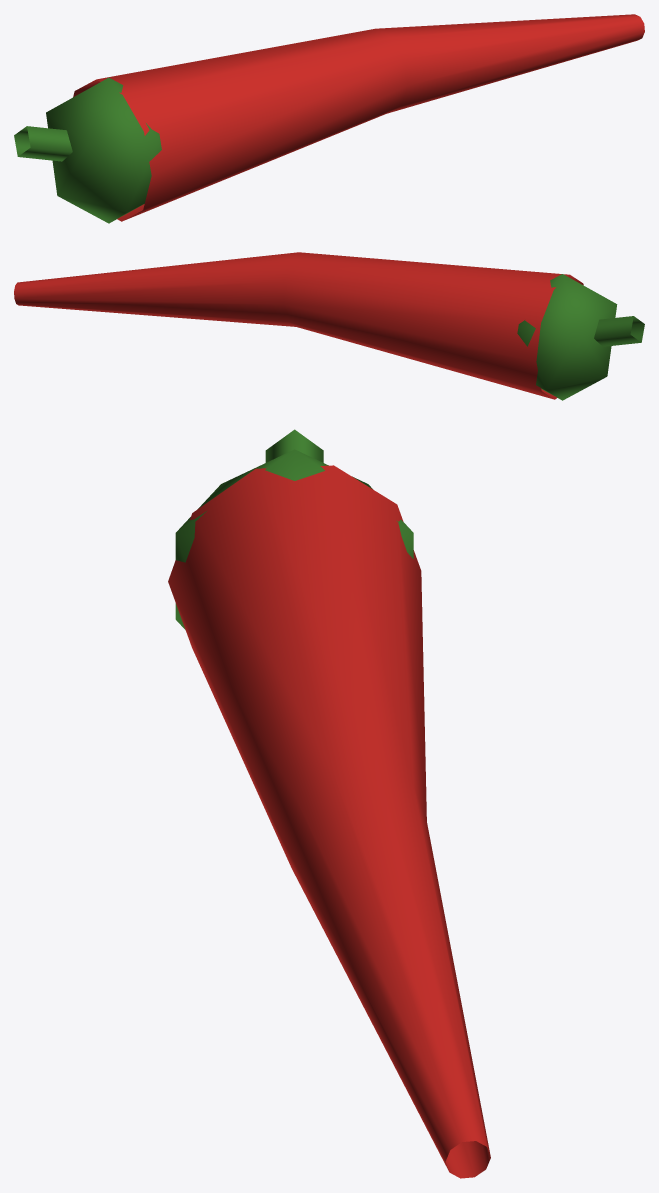
File: item_veg_chili.glb
3 renders of one model, top to bottom at view 1: azimuth 30°, elevation 25°; view 2: azimuth 150°, elevation 25°; view 3: azimuth 270°, elevation 25°, orthographic. The views are drawn at different scales.
Visible parts, largest first — view 1: item_veg_chili_gloss, item_veg_chili_main; view 2: item_veg_chili_gloss, item_veg_chili_main; view 3: item_veg_chili_gloss, item_veg_chili_main.
Boxes of the visible parts, x1,y1,x2,y2 form: item_veg_chili_gloss: [73, 14, 644, 221]; item_veg_chili_main: [14, 77, 161, 223]; item_veg_chili_gloss: [14, 252, 583, 399]; item_veg_chili_main: [517, 274, 644, 400]; item_veg_chili_gloss: [168, 465, 490, 1178]; item_veg_chili_main: [175, 429, 413, 629].
Bounding box in the file's own units: 0.2326 × 0.0484 × 0.0558.
